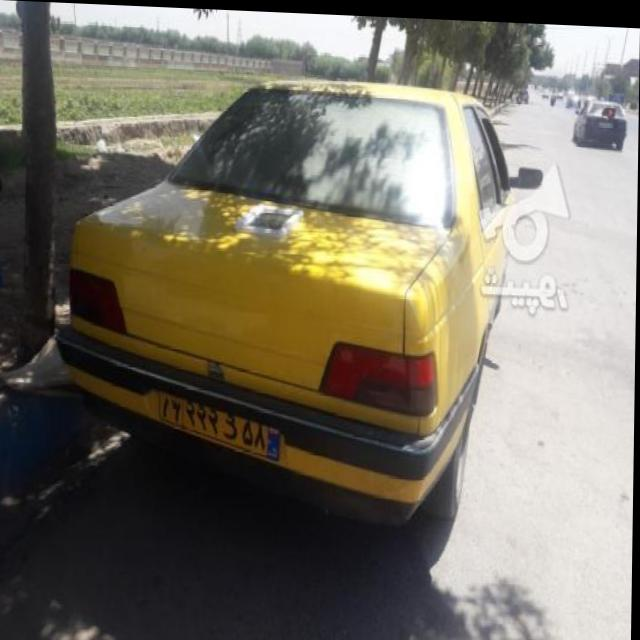licence: (157, 384, 285, 469)
